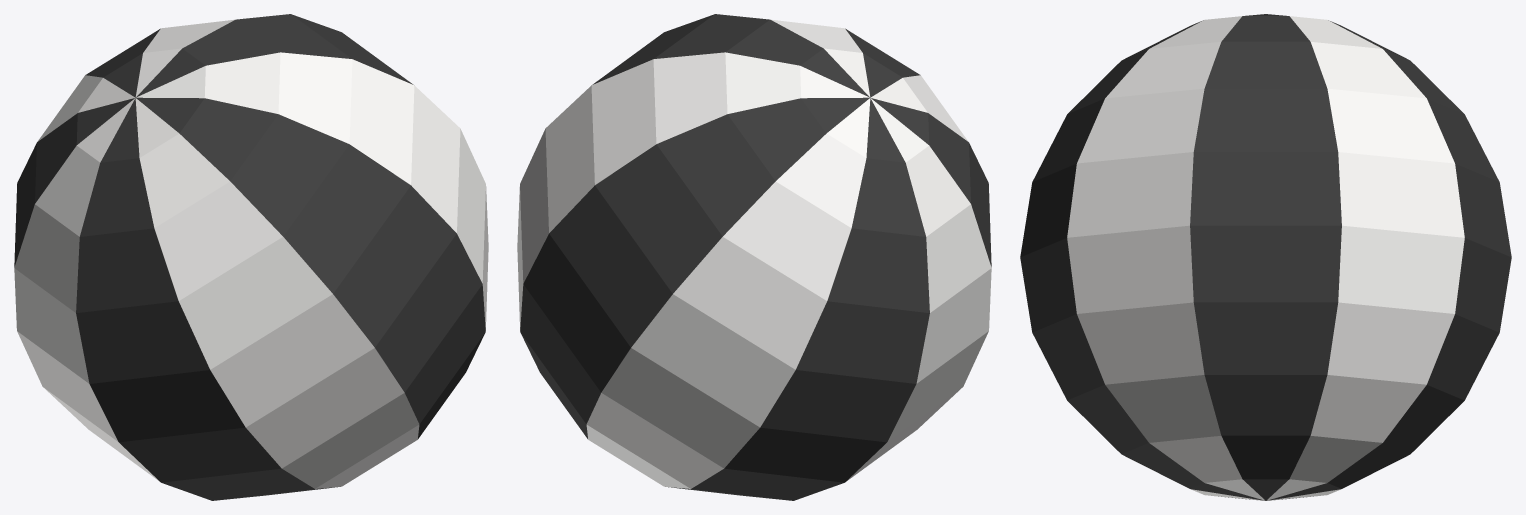
Rendered from Ball_4.fbx.
3 views of the same model, side by side, from view 1: azimuth 30°, elevation 25°; view 2: azimuth 150°, elevation 25°; view 3: azimuth 270°, elevation 25° (orthographic).
Parts seen in each view (by area): view 1: Ball_4; view 2: Ball_4; view 3: Ball_4.
Part boxes in pixels (x1,y1,x2,y2): Ball_4: (14,14,488,500); Ball_4: (517,14,991,500); Ball_4: (1020,14,1511,500).
Bounding box in the file's own units: 28.15 × 29.17 × 28.67.
